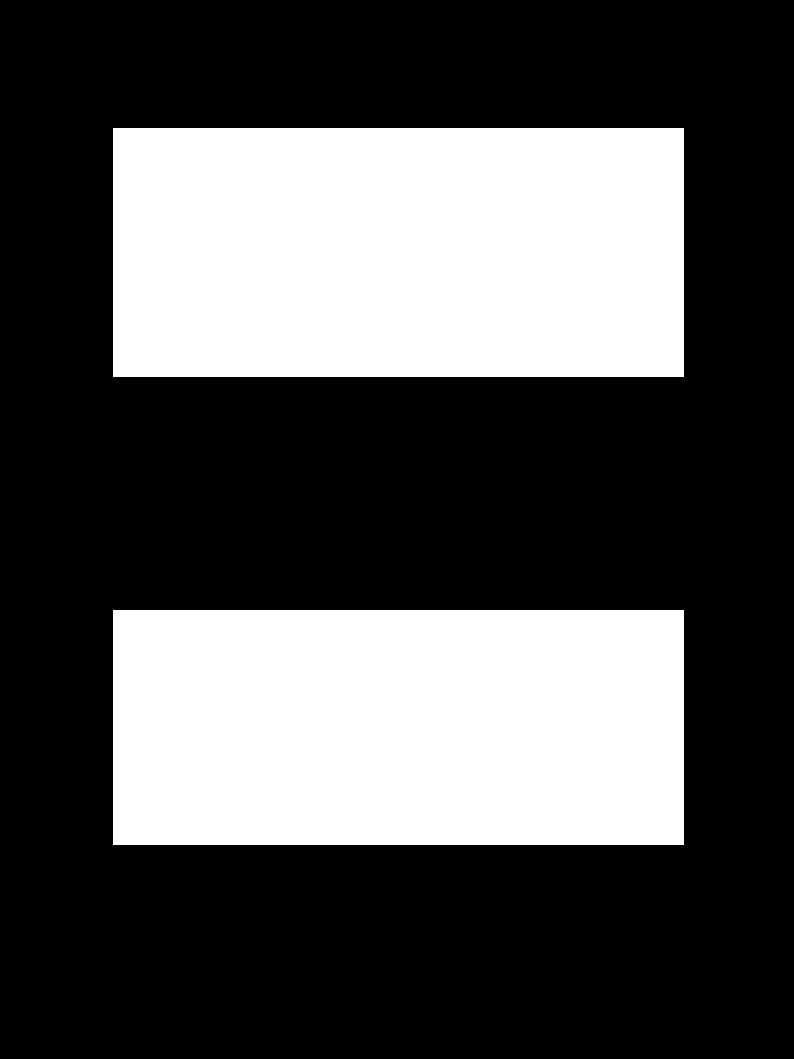table: (113, 128, 683, 376), (113, 610, 683, 844)
